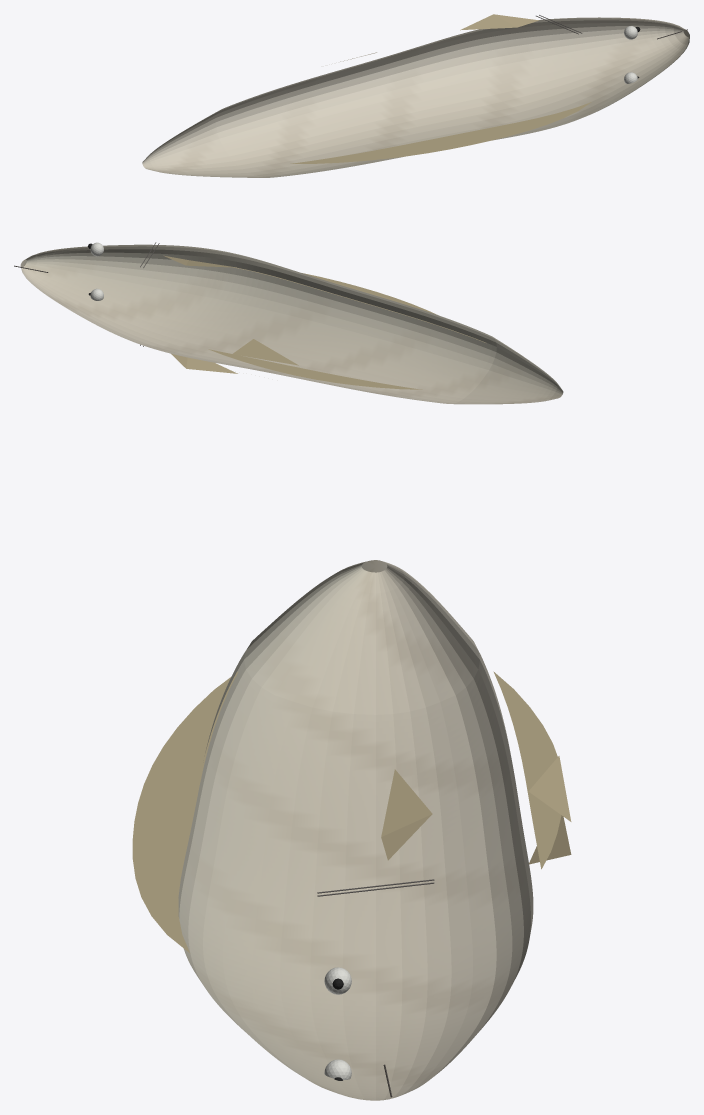
File: atlantic_croaker_realistic_generated.glb
The picture shows the model from 3 angles, top to bottom: view 1: azimuth 30°, elevation 25°; view 2: azimuth 150°, elevation 25°; view 3: azimuth 270°, elevation 25°; orthographic projection. The views are drawn at different scales.
Visible parts, largest first — view 1: world; view 2: world; view 3: world.
Boxes of the visible parts, <box> form: world: <box>142,14,689,177</box>; world: <box>14,242,563,404</box>; world: <box>132,560,571,1100</box>.
Size of the model in its own units: 2.92 by 0.4638 by 0.8677.
